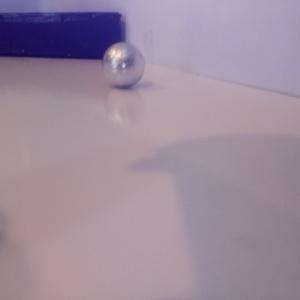zone: (1, 11, 123, 60)
